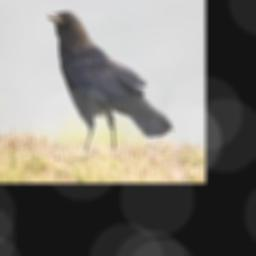Crow: (45, 9, 173, 152)
